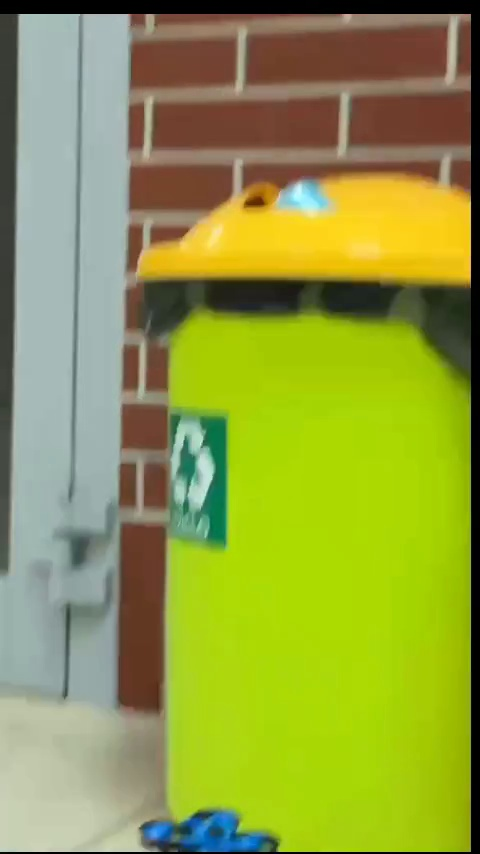drone: (139, 806, 287, 852)
